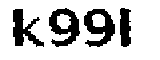9: (82, 6, 116, 52), (47, 6, 82, 48)
k: (9, 4, 46, 48)
l: (118, 4, 139, 53)
